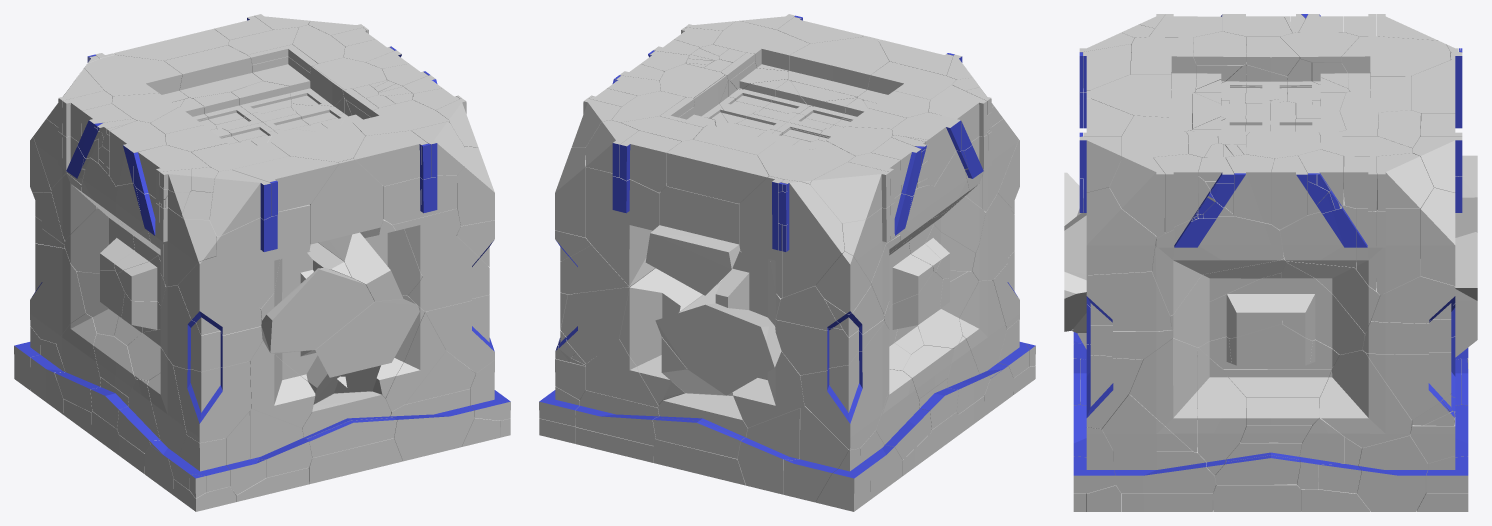
Rendered from crate_withani_baked.fbx.
The picture shows the model from 3 angles, left to right: view 1: azimuth 30°, elevation 25°; view 2: azimuth 150°, elevation 25°; view 3: azimuth 270°, elevation 25°; orthographic projection. The views are drawn at different scales.
Visible parts, largest first — view 1: crate_low_cell.180, crate_low_cell.037, crate_low_cell.078, crate_low_cell.117, crate_low_cell.104, crate_low_cell.100, crate_low_cell.032, crate_low_cell.134, crate_low_cell.123, crate_low_cell.089, crate_low_cell.101, crate_low_cell.051 (+86 smaller); view 2: crate_low_cell.040, crate_low_cell.123, crate_low_cell.170, crate_low_cell.135, crate_low_cell.010, crate_low_cell.073, crate_low_cell.173, crate_low_cell.190, crate_low_cell.118, crate_low_cell.034, crate_low_cell.035, crate_low_cell.105 (+79 smaller); view 3: crate_low_cell.146, crate_low_cell.024, crate_low_cell.148, crate_low_cell.132, crate_low_cell.133, crate_low_cell.079, crate_low_cell.087, crate_low_cell.047, crate_low_cell.004, crate_low_cell.107, crate_low_cell.119, crate_low_cell.045 (+81 smaller).
Part boxes in pixels (<box>): crate_low_cell.180: <box>261,268,374,353</box>; crate_low_cell.037: <box>216,204,310,308</box>; crate_low_cell.078: <box>315,298,419,377</box>; crate_low_cell.117: <box>173,361,251,442</box>; crate_low_cell.104: <box>160,285,262,371</box>; crate_low_cell.100: <box>310,158,383,244</box>; crate_low_cell.032: <box>178,256,261,335</box>; crate_low_cell.134: <box>390,389,474,461</box>; crate_low_cell.123: <box>30,243,85,343</box>; crate_low_cell.089: <box>408,236,489,311</box>; crate_low_cell.101: <box>250,344,315,427</box>; crate_low_cell.051: <box>424,294,494,373</box>; crate_low_cell.040: <box>655,303,781,395</box>; crate_low_cell.123: <box>800,322,889,449</box>; crate_low_cell.170: <box>586,167,660,286</box>; crate_low_cell.135: <box>619,268,722,404</box>; crate_low_cell.010: <box>781,179,844,297</box>; crate_low_cell.073: <box>666,139,768,203</box>; crate_low_cell.173: <box>788,37,889,97</box>; crate_low_cell.190: <box>645,225,740,295</box>; crate_low_cell.118: <box>737,408,800,494</box>; crate_low_cell.034: <box>561,287,629,363</box>; crate_low_cell.035: <box>783,406,848,502</box>; crate_low_cell.105: <box>775,319,884,375</box>; crate_low_cell.146: <box>1152,216,1283,315</box>; crate_low_cell.024: <box>1320,350,1411,447</box>; crate_low_cell.148: <box>1129,337,1197,452</box>; crate_low_cell.132: <box>1086,187,1156,275</box>; crate_low_cell.133: <box>1172,272,1281,347</box>; crate_low_cell.079: <box>1357,434,1428,511</box>; crate_low_cell.087: <box>1282,262,1366,354</box>; crate_low_cell.047: <box>1086,271,1171,331</box>; crate_low_cell.004: <box>1197,347,1246,475</box>; crate_low_cell.107: <box>1113,420,1216,493</box>; crate_low_cell.119: <box>1341,36,1450,91</box>; crate_low_cell.045: <box>1366,352,1451,419</box>.
Size of the model in its own units: 215 by 200 by 224.
